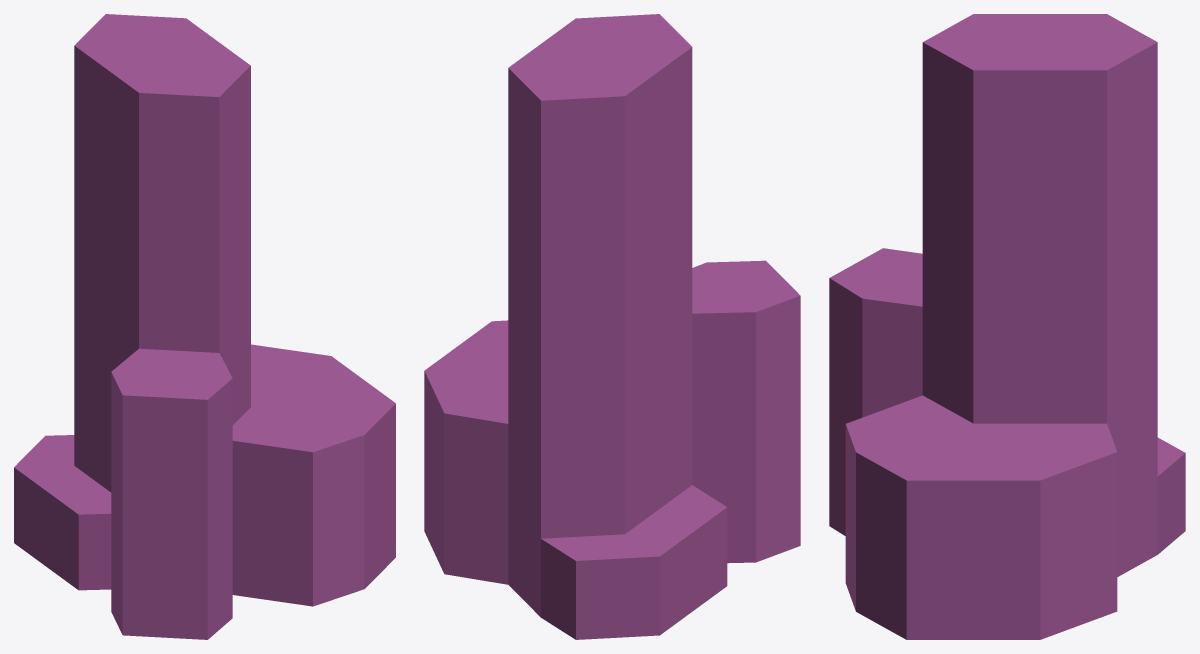
File: Resource Crystal.fbx
3 views of the same model, side by side, from view 1: azimuth 30°, elevation 25°; view 2: azimuth 150°, elevation 25°; view 3: azimuth 270°, elevation 25° (orthographic). The views are drawn at different scales.
Visible parts, largest first — view 1: Resource Crystal; view 2: Resource Crystal; view 3: Resource Crystal.
Boxes of the visible parts, bbox=[...] form: Resource Crystal: bbox=[14, 14, 395, 639]; Resource Crystal: bbox=[424, 14, 800, 639]; Resource Crystal: bbox=[829, 14, 1185, 639].
Bounding box in the file's own units: 189 × 315 × 198.
